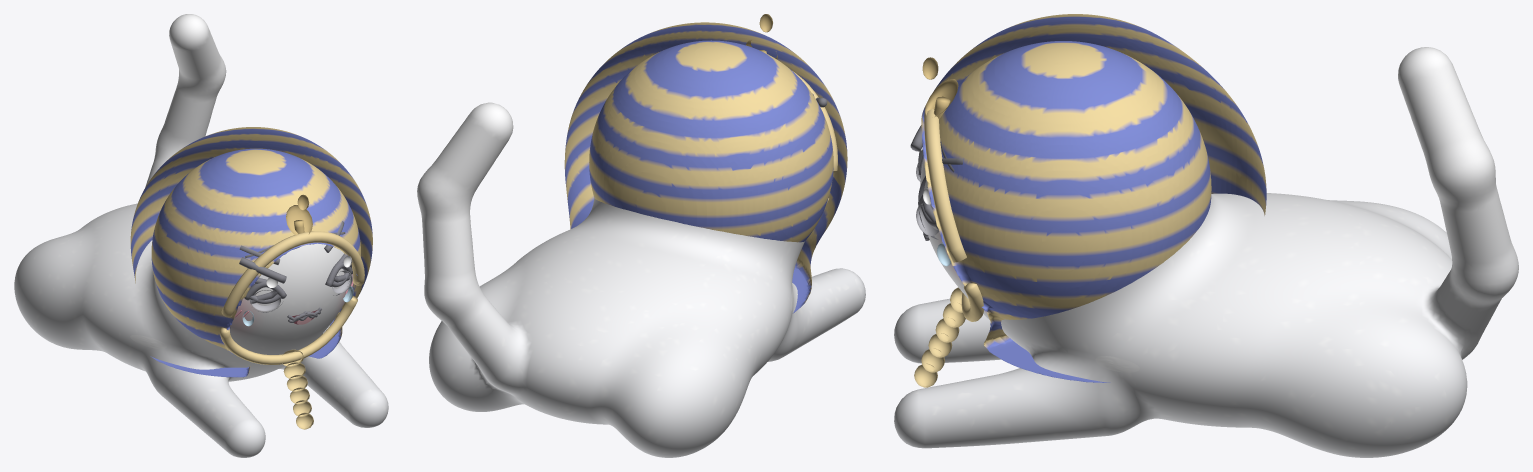
File: e_sphinx_slime.glb
The picture shows the model from 3 angles, left to right: view 1: azimuth 30°, elevation 25°; view 2: azimuth 150°, elevation 25°; view 3: azimuth 270°, elevation 25°; orthographic projection. The views are drawn at different scales.
Parts seen in each view (by area): view 1: BodyMesh, face_eyes_normal, face_eyes_happy, face_brow_smug; view 2: BodyMesh; view 3: BodyMesh, face_eyes_normal.
Boxes of the visible parts, x1,y1,x2,y2 form: BodyMesh: (14,14,388,457); face_eyes_normal: (251,256,352,312); face_eyes_happy: (244,263,352,300); face_brow_smug: (239,257,286,283); BodyMesh: (417,14,865,457); BodyMesh: (894,14,1518,457); face_eyes_normal: (916,147,938,239).
Size of the model in its own units: 1.66 by 1.82 by 2.62.
